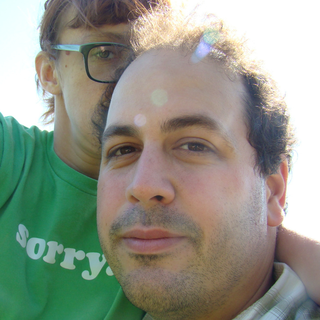eye: (167, 134, 224, 162), (104, 140, 144, 161), (84, 45, 124, 65)
